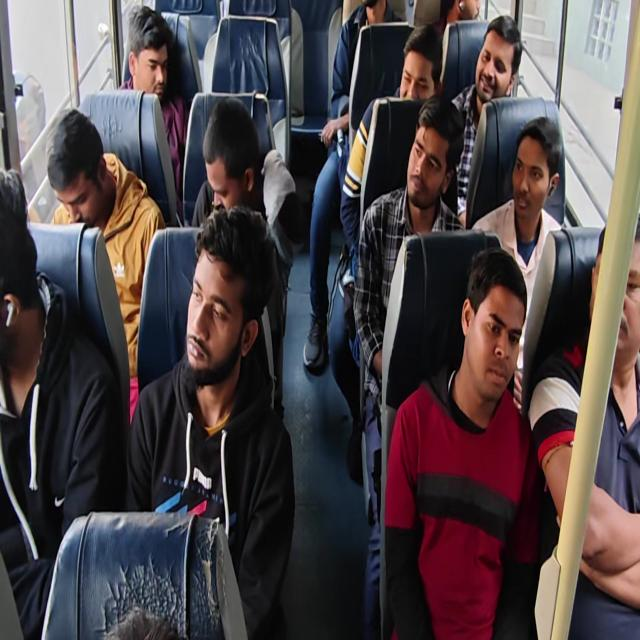person: (1, 1, 638, 638), (125, 204, 296, 638), (382, 246, 542, 638), (353, 93, 466, 637), (0, 167, 124, 638), (528, 216, 640, 638), (45, 108, 166, 426), (303, 0, 406, 372), (190, 97, 298, 416), (339, 23, 443, 291), (470, 115, 563, 412), (448, 14, 522, 226), (116, 4, 187, 207), (437, 0, 482, 35)
